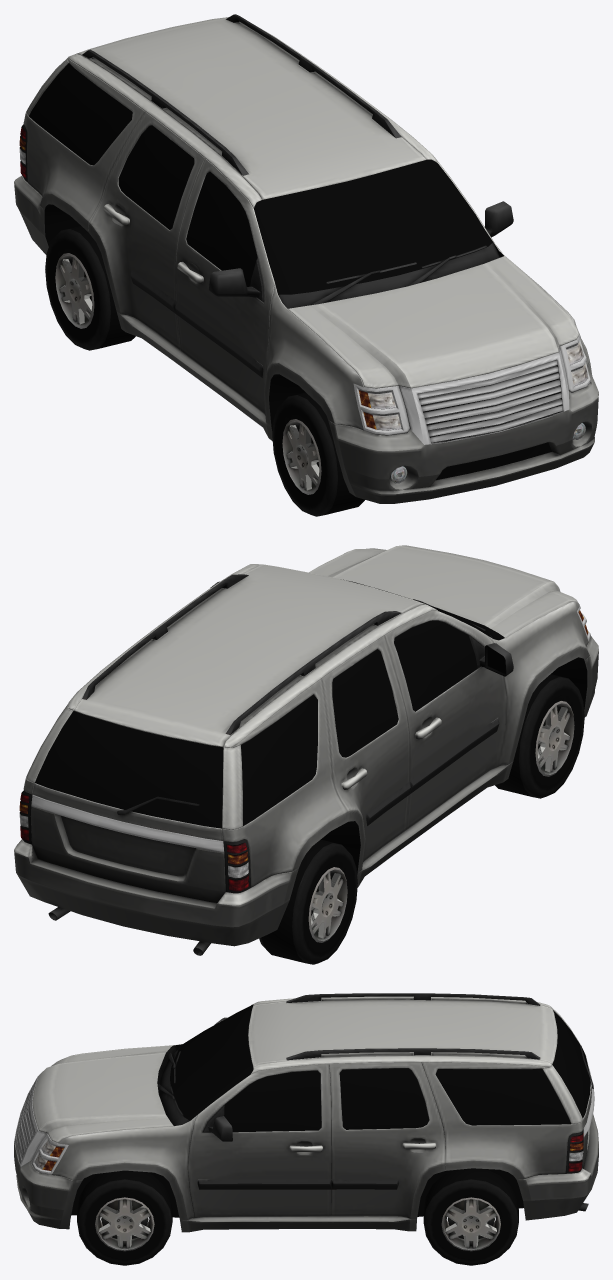
Rendered from suv_white.glb.
The picture shows the model from 3 angles, top to bottom: view 1: azimuth 30°, elevation 25°; view 2: azimuth 150°, elevation 25°; view 3: azimuth 270°, elevation 25°; orthographic projection. The views are drawn at different scales.
Visible parts, largest first — view 1: suv body, Rear Right Wheel, Front Right Wheel; view 2: suv body, Rear Right Wheel, Front Right Wheel; view 3: suv body, Rear Left Wheel, Front Left Wheel.
Boxes of the visible parts, bbox=[...] form: suv body: bbox=[14, 14, 598, 503]; Rear Right Wheel: bbox=[45, 225, 135, 350]; Front Right Wheel: bbox=[272, 392, 364, 516]; suv body: bbox=[14, 545, 598, 955]; Rear Right Wheel: bbox=[259, 839, 357, 964]; Front Right Wheel: bbox=[495, 674, 584, 798]; suv body: bbox=[14, 993, 598, 1232]; Rear Left Wheel: bbox=[423, 1168, 518, 1265]; Front Left Wheel: bbox=[77, 1170, 172, 1265].
Size of the model in its own units: 2.07 by 1.73 by 4.61.
Materials: 1 (1 with a texture image).
